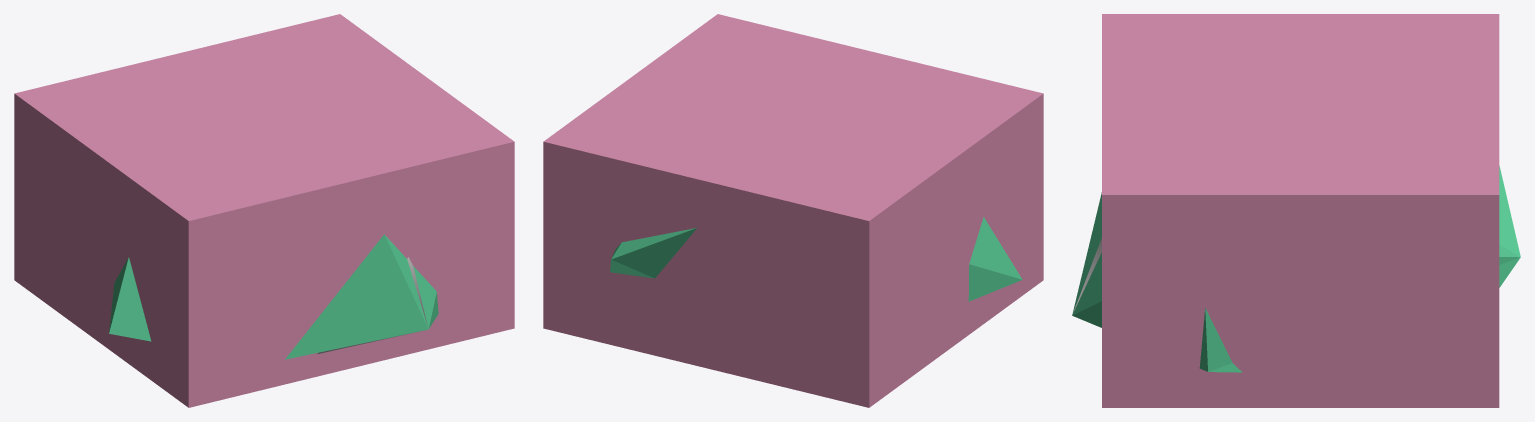
The model's file is rock_01_a_small_b.dae.
3 renders of one model, left to right at view 1: azimuth 30°, elevation 25°; view 2: azimuth 150°, elevation 25°; view 3: azimuth 270°, elevation 25°, orthographic. The views are drawn at different scales.
Parts seen in each view (by area): view 1: Untitled, Colmesh-1; view 2: Untitled, Colmesh-1; view 3: Untitled, Colmesh-1.
Boxes of the visible parts, x1,y1,x2,y2 form: Untitled: (14,14,514,407); Colmesh-1: (109,234,438,359); Untitled: (543,14,1043,407); Colmesh-1: (610,217,1022,301); Untitled: (1102,14,1499,407); Colmesh-1: (1072,165,1520,372).
Bounding box in the file's own units: 0.452 × 0.4262 × 0.223.
